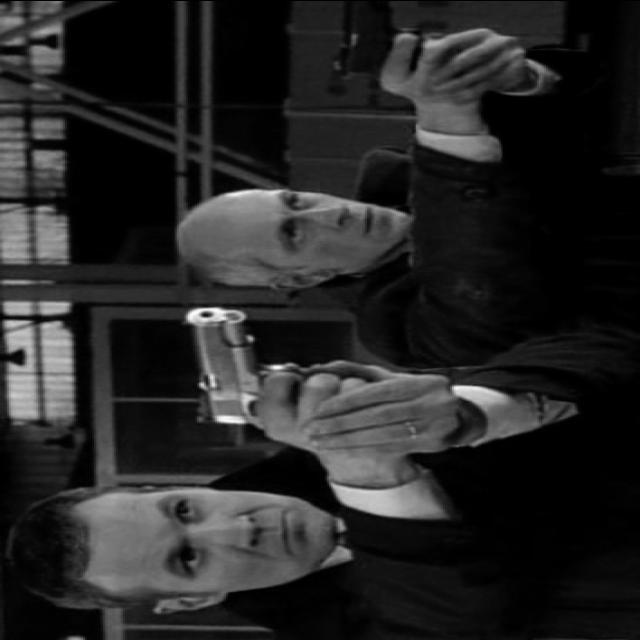weapons: (175, 302, 341, 440), (327, 1, 434, 82)
